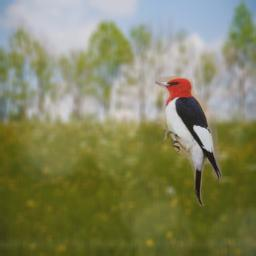Woodpecker: (155, 76, 222, 206)
